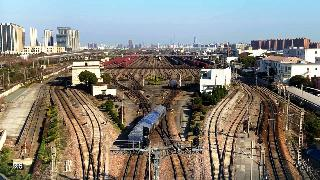train: (127, 105, 168, 149)
